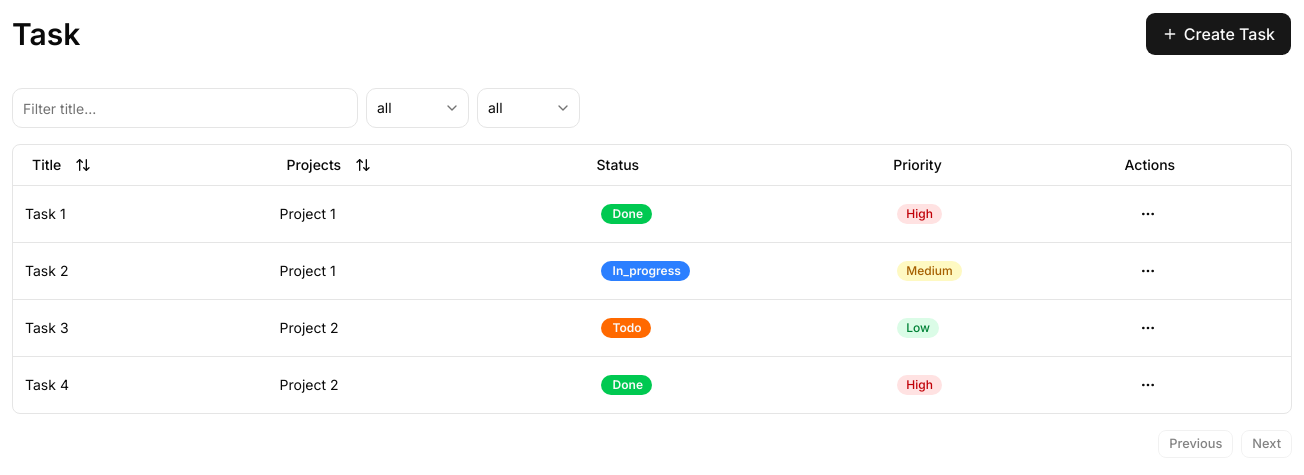
Test case: TaskDetailPage › should filter tasks by title
This screenshot has width=1304, height=475.
Expected: the text "Task 1" is shown, [13,185,268,242]
Type "Task 1" into the field with placeholder "Filter title...".
click(185, 108); type("Task 1")  # box [12,88,358,128]
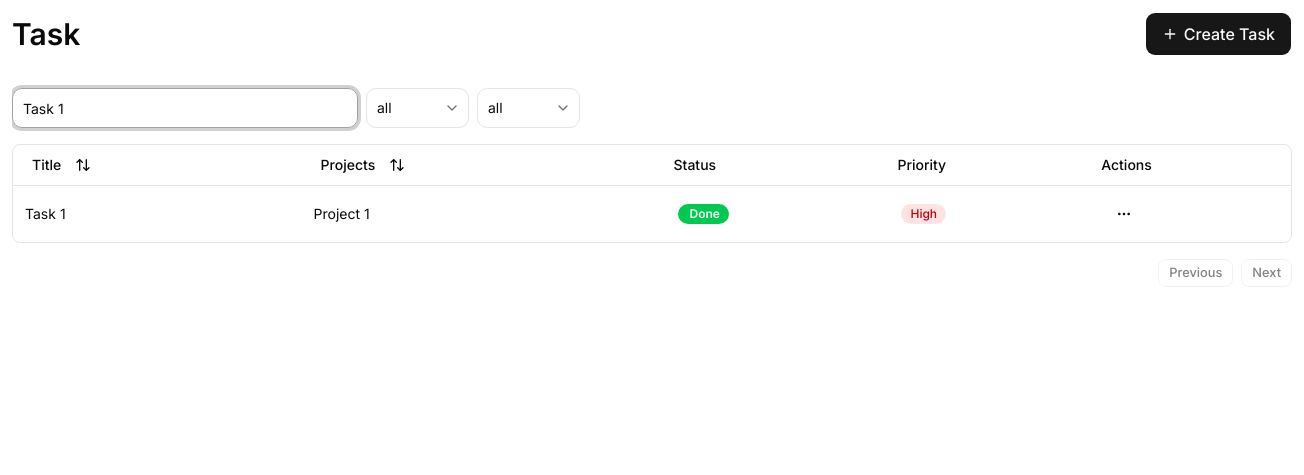
Expected: the text "Task 2" is gone
Expected: the text "Task 3" is gone
Expected: the text "Task 4" is gone
